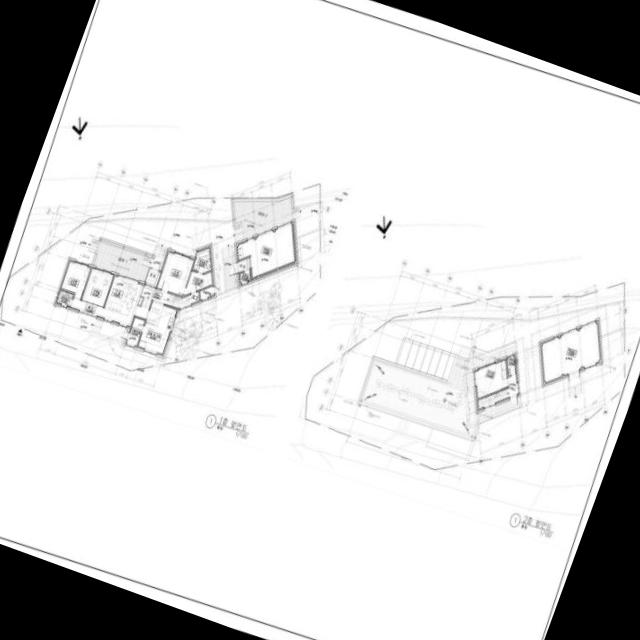background: (0, 0, 640, 640)
space_bedroom: (157, 252, 194, 295), (475, 360, 507, 398), (61, 261, 90, 298)
space_dressroom: (184, 271, 212, 295)
space_front: (145, 268, 161, 287), (237, 257, 250, 272)
space_kitchen: (138, 301, 176, 354)
space_living_room: (70, 276, 182, 326), (506, 374, 517, 397)
space_other: (542, 322, 600, 382), (249, 223, 294, 277), (82, 268, 113, 306), (126, 317, 144, 345), (179, 291, 199, 308), (200, 286, 214, 299)
space_staircase: (478, 389, 507, 408)
space_toilet: (192, 247, 211, 272), (57, 290, 73, 306), (237, 240, 250, 259), (507, 356, 515, 375), (239, 270, 250, 283)
